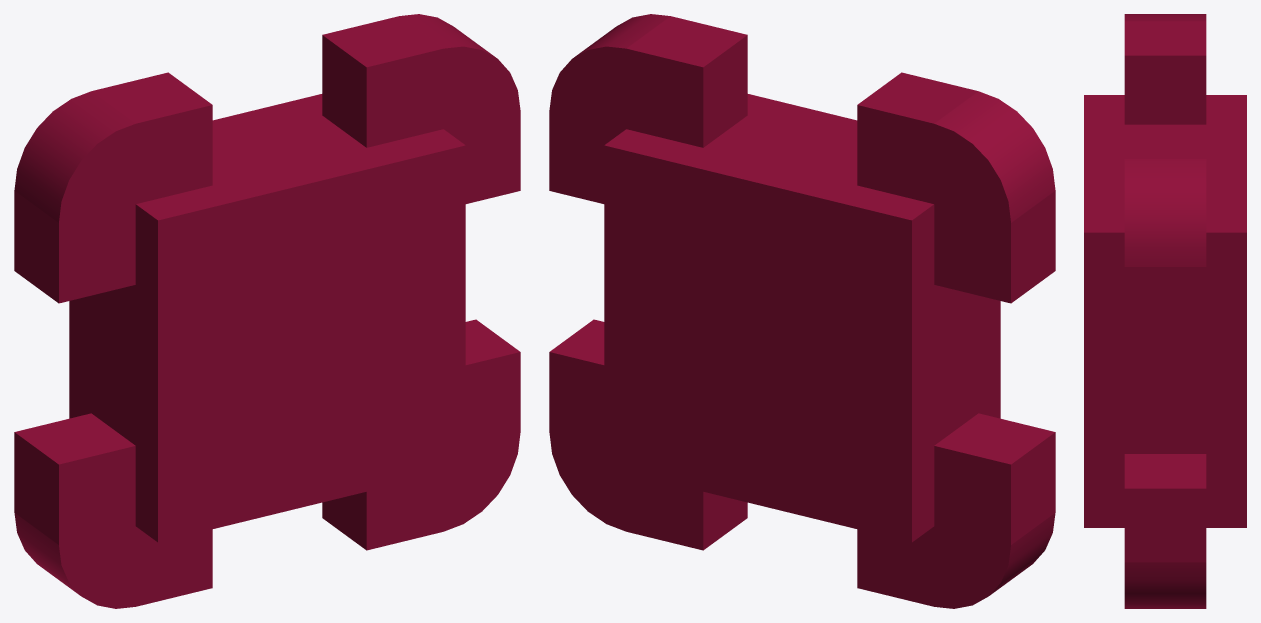
The model's file is Point.glb.
3 renders of one model, left to right at view 1: azimuth 30°, elevation 25°; view 2: azimuth 150°, elevation 25°; view 3: azimuth 270°, elevation 25°, orthographic. The views are drawn at different scales.
Parts seen in each view (by area): view 1: generated(Clone); view 2: generated(Clone); view 3: generated(Clone).
Boxes of the visible parts, x1,y1,x2,y2 form: generated(Clone): (14, 14, 520, 608); generated(Clone): (549, 14, 1055, 608); generated(Clone): (1084, 14, 1246, 608).
Bounding box in the file's own units: 6 × 6 × 2.
1 material, 1 textured.
